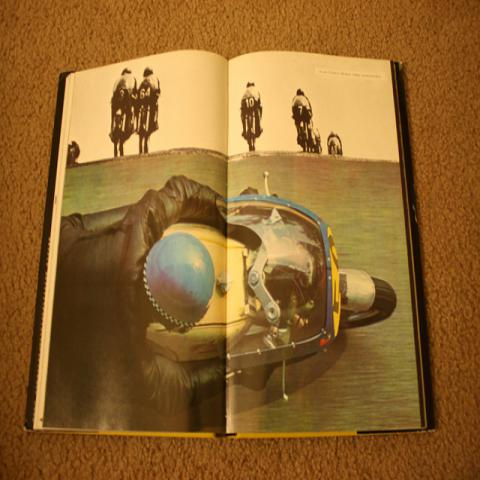motorcycle: (145, 192, 398, 403)
